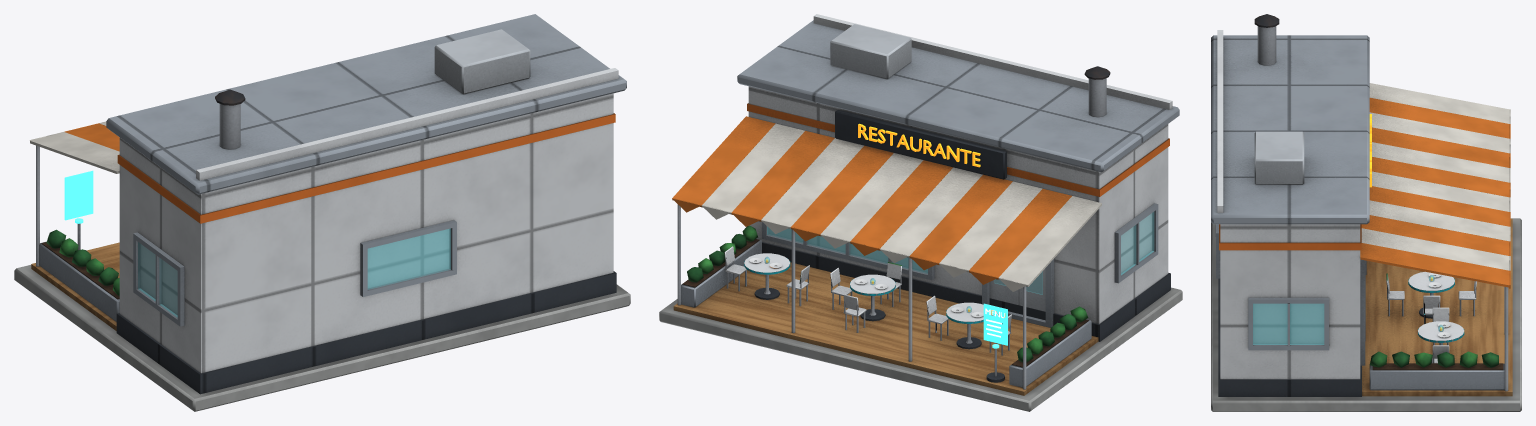
File: restaurante.fbx
3 views of the same model, side by side, from view 1: azimuth 30°, elevation 25°; view 2: azimuth 150°, elevation 25°; view 3: azimuth 270°, elevation 25° (orthographic). The views are drawn at different scales.
Visible parts, largest first — view 1: restaurante, restaurante_cristal, restaurante_menu_neon; view 2: restaurante, restaurante_cristal, restaurante_naranja_neon, restaurante_menu_neon, restaurante_puerta_der, restaurante_puerta_izq; view 3: restaurante, restaurante_cristal.
Boxes of the visible parts, <box> form: restaurante: <box>14,14,630,411</box>; restaurante_cristal: <box>138,228,450,317</box>; restaurante_menu_neon: <box>64,170,93,220</box>; restaurante: <box>659,14,1182,411</box>; restaurante_cristal: <box>764,212,1154,312</box>; restaurante_naranja_neon: <box>766,123,980,311</box>; restaurante_menu_neon: <box>983,303,1007,345</box>; restaurante_puerta_der: <box>1019,268,1045,311</box>; restaurante_puerta_izq: <box>989,279,1018,304</box>; restaurante: <box>1211,14,1521,411</box>; restaurante_cristal: <box>1253,275,1443,344</box>.
Size of the model in its own units: 14 by 8.65 by 10.
3 materials, 3 textured.
